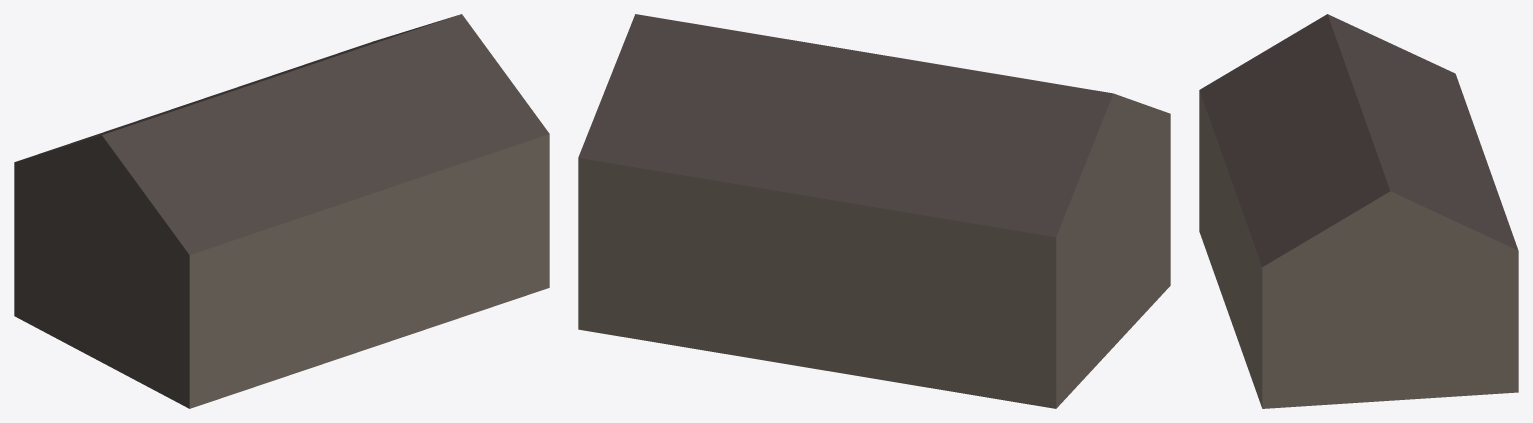
3 renders of one model, left to right at view 1: azimuth 30°, elevation 25°; view 2: azimuth 150°, elevation 25°; view 3: azimuth 270°, elevation 25°, orthographic. The views are drawn at different scales.
Parts seen in each view (by area): view 1: HP-w859424277; view 2: HP-w859424277; view 3: HP-w859424277.
Part boxes in pixels (bbox=[...]): HP-w859424277: bbox=[14, 14, 549, 408]; HP-w859424277: bbox=[578, 14, 1170, 408]; HP-w859424277: bbox=[1199, 14, 1518, 408].
Bounding box in the file's own units: 17.59 × 8.87 × 12.25.
